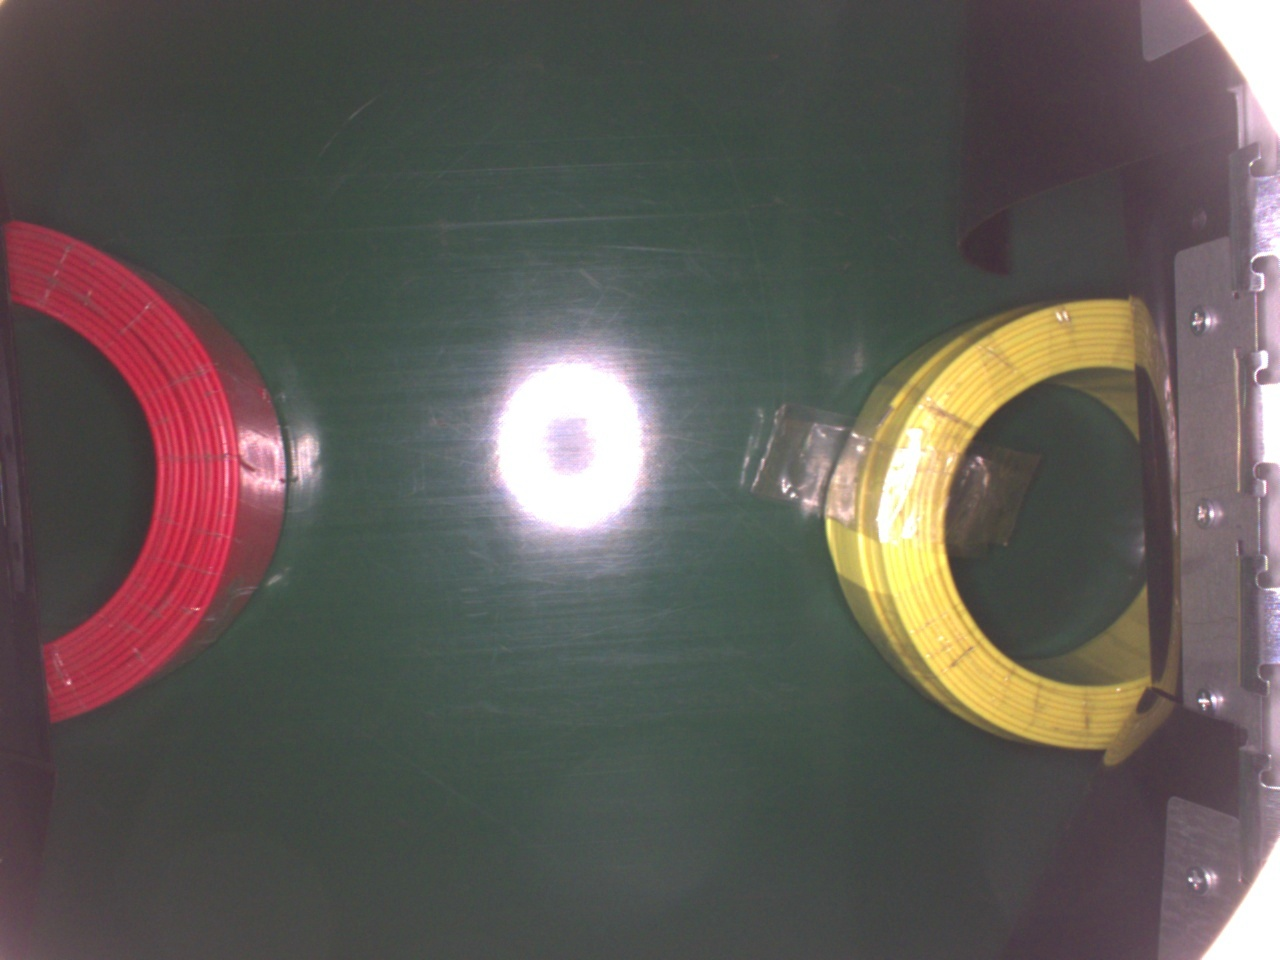red: (0, 211, 293, 728)
yellow: (819, 296, 1142, 755)
